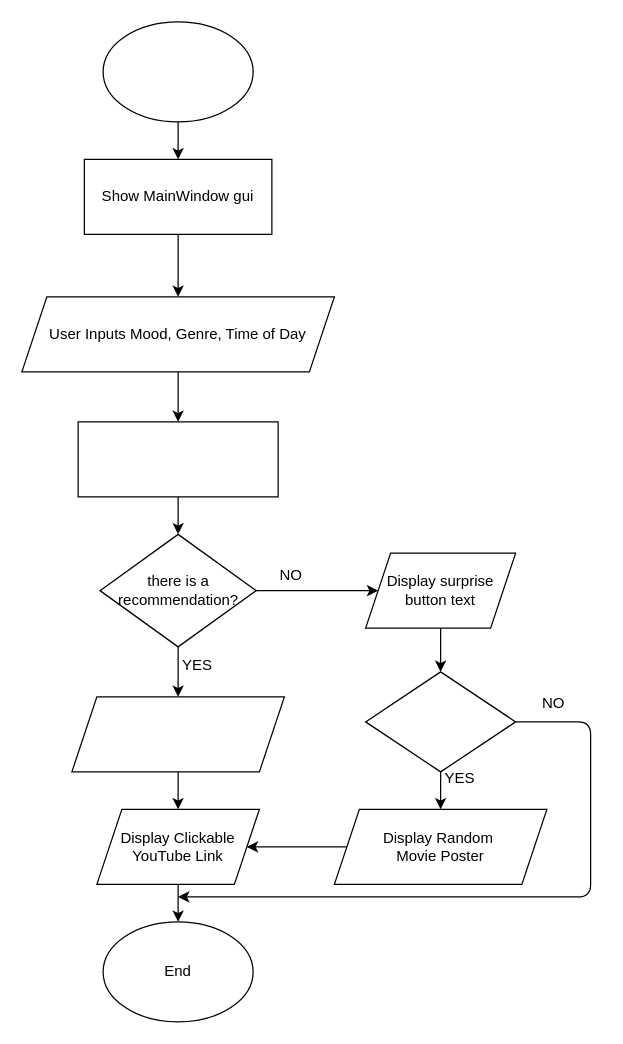
This 623x1044 diagram has some shape labels left out. The box of each missing label's shape, as (x1, y1, x2, y2) in pixels:
Display Movie Poster: (71, 696, 284, 772)
Processes input and determines movie recommendation: (77, 421, 278, 497)
Start: (102, 21, 253, 122)
Surprise button clicked?: (364, 671, 516, 772)
